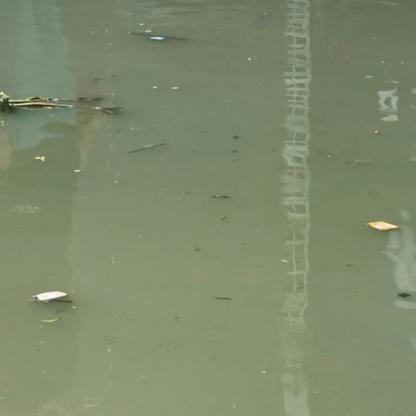Trash: (32, 288, 69, 305), (367, 220, 397, 232), (151, 34, 164, 42)
